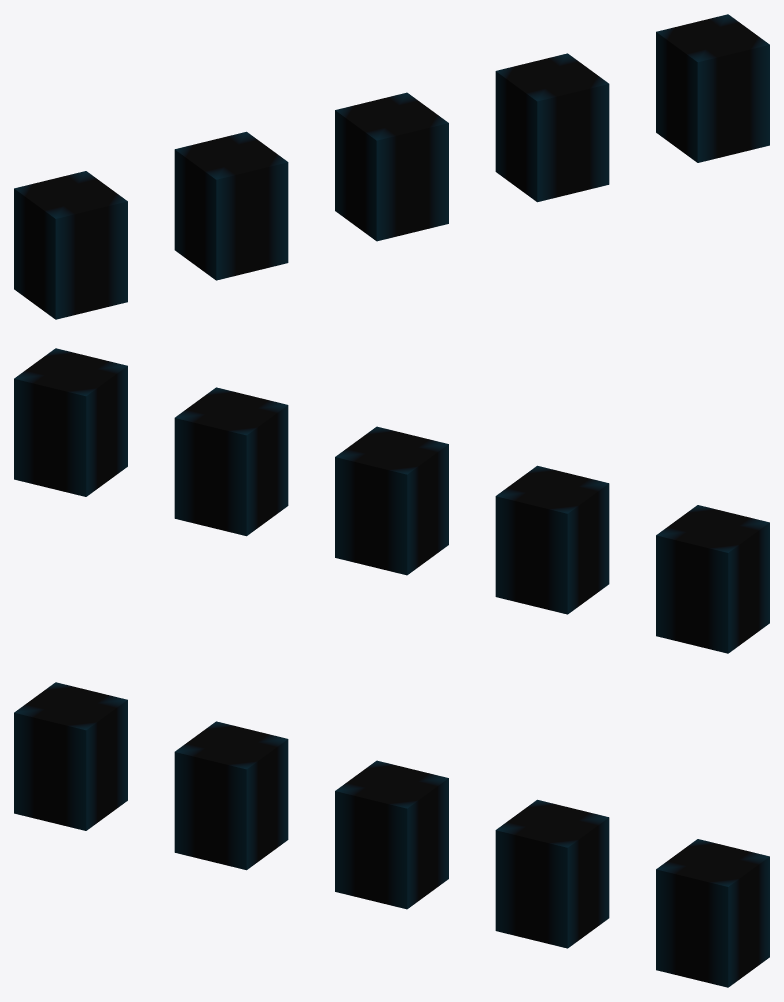
File: lockdown_gate_open.glb
3 renders of one model, top to bottom at view 1: azimuth 30°, elevation 25°; view 2: azimuth 150°, elevation 25°; view 3: azimuth 330°, elevation 25°, orthographic.
Visible parts, largest first — view 1: gate_bars; view 2: gate_bars; view 3: gate_bars.
Boxes of the visible parts, x1,y1,x2,y2 form: gate_bars: (14, 14, 769, 319); gate_bars: (14, 348, 769, 653); gate_bars: (14, 682, 769, 987).
Size of the model in its own units: 0.89 by 0.12 by 0.09.
